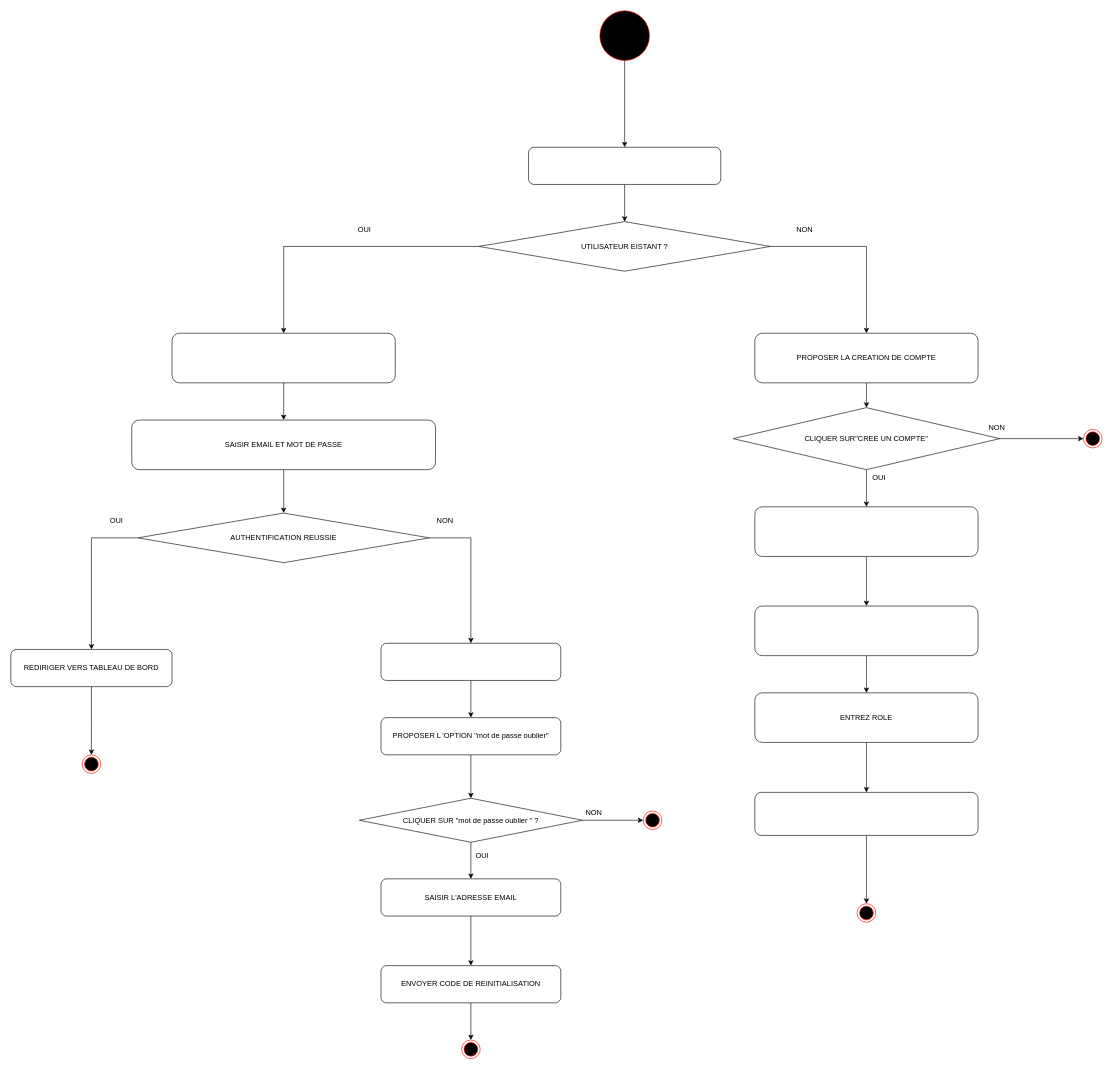
The diagram is 1113 pixels wide and 1070 high, and some of its shapes have lost their labels. Each missing label, with the box of its shape:
AFFICHER LA PAGE D'ACCUEIL: (528, 147, 721, 184)
AFFICHER UN MESSAGE: (380, 643, 561, 680)
CLIQUER SUR "CONNEXION": (171, 333, 395, 383)
CREE UN COMPTE: (754, 605, 978, 656)
REDIRIGER VERS LA PAGE DE CONNEXION: (754, 792, 978, 835)
SAISIR LES INFORMATIONS PERSONNELLES: (754, 506, 978, 556)
